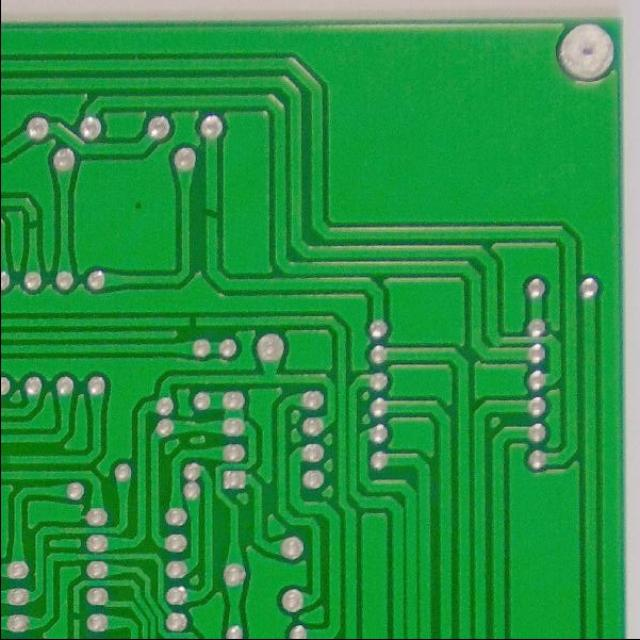Open_Circuit: (196, 199, 224, 228), (179, 311, 204, 332), (22, 212, 42, 236), (67, 604, 85, 626)
